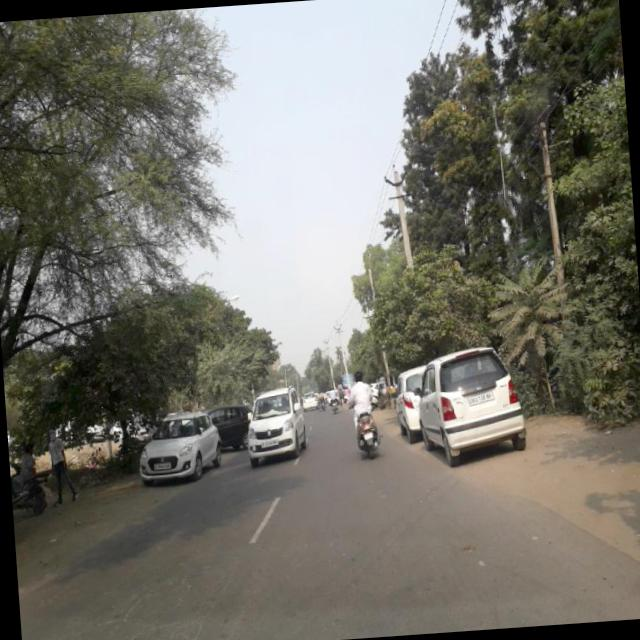crack: (74, 554, 257, 640)
